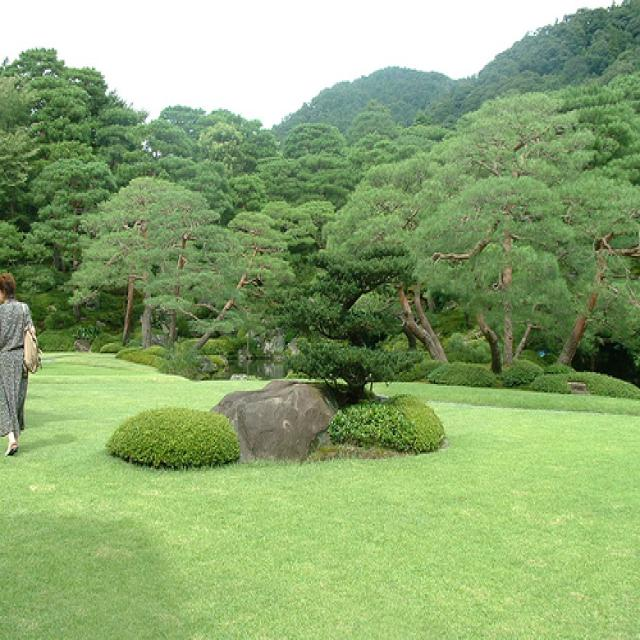person: (1, 270, 39, 456)
